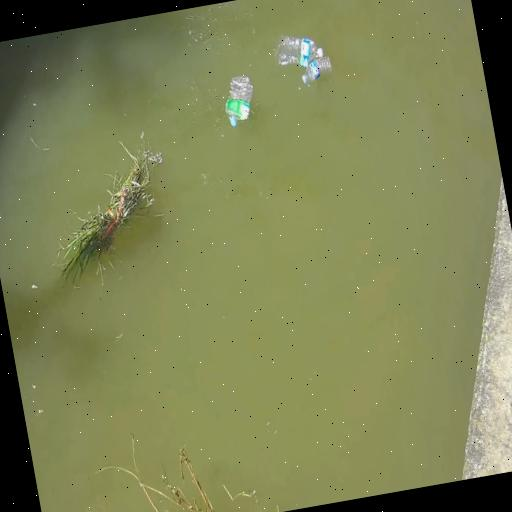plastic: (226, 76, 253, 126), (276, 36, 318, 67), (302, 57, 331, 83)
twig: (57, 134, 161, 283), (95, 433, 215, 512)
